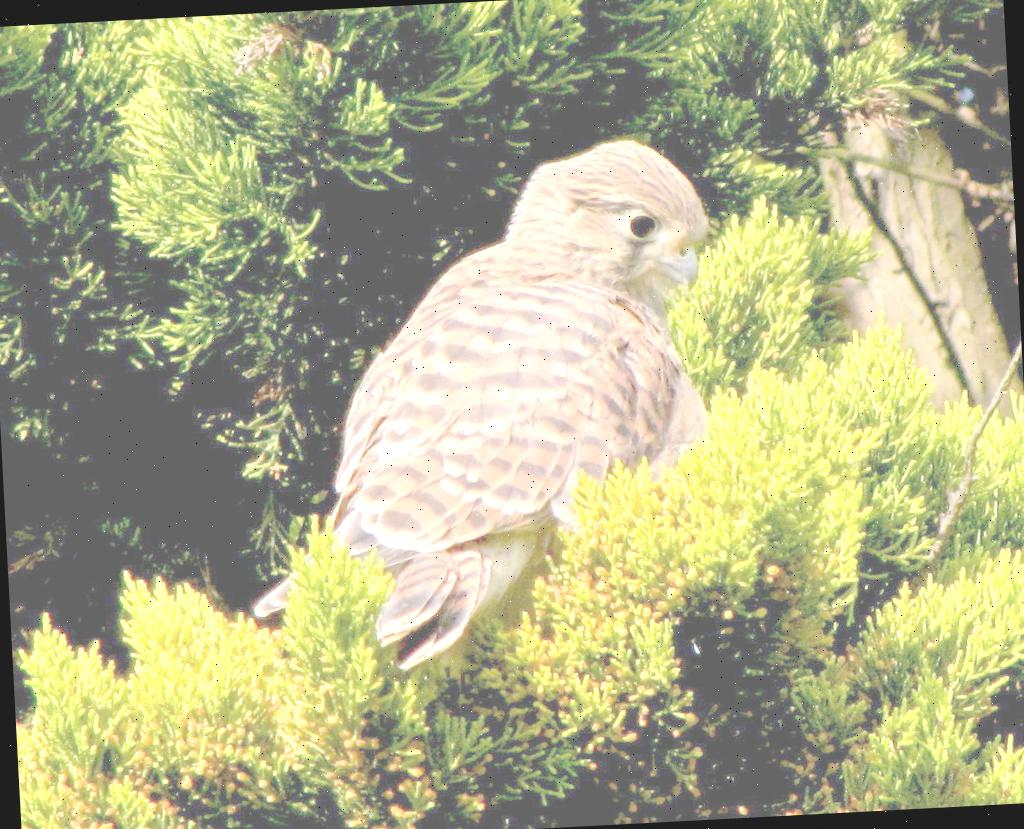Owl: (230, 132, 734, 678)
